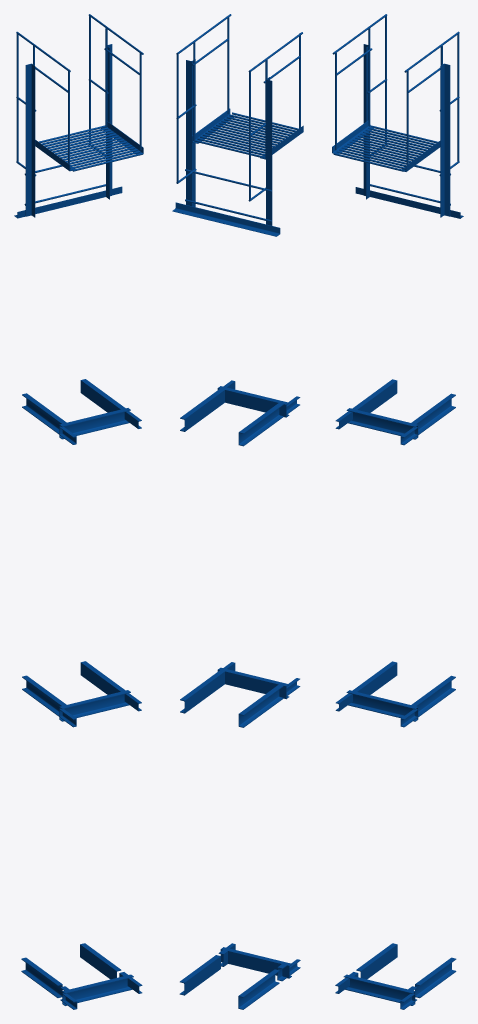
File: GCC-AAV-13220-30.nwd(29).fbx
The picture shows the model from 3 angles, left to right: view 1: azimuth 30°, elevation 25°; view 2: azimuth 150°, elevation 25°; view 3: azimuth 330°, elevation 25°; orthographic projection.
Parts seen in each view (by area): view 1: GENSEC 7 of SBFRAMEWORK /13220-ST-001/CS/KM2/B/+13.000, GENSEC 17 of SBFRAMEWORK /13220-ST-001/CS/KM2/B/+3.500, GENSEC 13 of SBFRAMEWORK /13220-ST-001/CS/KM2/B/+7.000, GENSEC 13 of SBFRAMEWORK /13220-ST-001/CS/KM2/B/+11.000, GENSEC 8 of SBFRAMEWORK /13220-ST-001/CS/KM2/B/+13.000, GENSEC 18 of SBFRAMEWORK /13220-ST-001/CS/KM2/B/+3.500, GENSEC 15 of SBFRAMEWORK /13220-ST-001/CS/KM2/B/+7.000, GENSEC 15 of SBFRAMEWORK /13220-ST-001/CS/KM2/B/+11.000, GENSEC 14 of SBFRAMEWORK /13220-ST-001/CS/KM2/B/+7.000, GENSEC 9 of SBFRAMEWORK /13220-ST-001/CS/KM2/B/+13.000, GENSEC 14 of SBFRAMEWORK /13220-ST-001/CS/KM2/B/+11.000, GENSEC 21 of SBFRAMEWORK /13220-ST-001/CS/KM2/B/+3.500 (+2 smaller); view 2: GENSEC 8 of SBFRAMEWORK /13220-ST-001/CS/KM2/B/+13.000, GENSEC 9 of SBFRAMEWORK /13220-ST-001/CS/KM2/B/+13.000, GENSEC 7 of SBFRAMEWORK /13220-ST-001/CS/KM2/B/+13.000, GENSEC 17 of SBFRAMEWORK /13220-ST-001/CS/KM2/B/+3.500, GENSEC 13 of SBFRAMEWORK /13220-ST-001/CS/KM2/B/+7.000, GENSEC 13 of SBFRAMEWORK /13220-ST-001/CS/KM2/B/+11.000, GENSEC 15 of SBFRAMEWORK /13220-ST-001/CS/KM2/B/+7.000, GENSEC 15 of SBFRAMEWORK /13220-ST-001/CS/KM2/B/+11.000, GENSEC 14 of SBFRAMEWORK /13220-ST-001/CS/KM2/B/+7.000, GENSEC 14 of SBFRAMEWORK /13220-ST-001/CS/KM2/B/+11.000, GENSEC 18 of SBFRAMEWORK /13220-ST-001/CS/KM2/B/+3.500, GENSEC 21 of SBFRAMEWORK /13220-ST-001/CS/KM2/B/+3.500 (+2 smaller); view 3: GENSEC 8 of SBFRAMEWORK /13220-ST-001/CS/KM2/B/+13.000, GENSEC 13 of SBFRAMEWORK /13220-ST-001/CS/KM2/B/+11.000, GENSEC 13 of SBFRAMEWORK /13220-ST-001/CS/KM2/B/+7.000, GENSEC 17 of SBFRAMEWORK /13220-ST-001/CS/KM2/B/+3.500, GENSEC 7 of SBFRAMEWORK /13220-ST-001/CS/KM2/B/+13.000, GENSEC 21 of SBFRAMEWORK /13220-ST-001/CS/KM2/B/+3.500, GENSEC 14 of SBFRAMEWORK /13220-ST-001/CS/KM2/B/+7.000, GENSEC 14 of SBFRAMEWORK /13220-ST-001/CS/KM2/B/+11.000, GENSEC 18 of SBFRAMEWORK /13220-ST-001/CS/KM2/B/+3.500, GENSEC 15 of SBFRAMEWORK /13220-ST-001/CS/KM2/B/+11.000, GENSEC 9 of SBFRAMEWORK /13220-ST-001/CS/KM2/B/+13.000, GENSEC 15 of SBFRAMEWORK /13220-ST-001/CS/KM2/B/+7.000 (+2 smaller).
Boxes of the visible parts, box(x1,y1,x2,y2) form: GENSEC 7 of SBFRAMEWORK /13220-ST-001/CS/KM2/B/+13.000: box(25, 63, 35, 217); GENSEC 17 of SBFRAMEWORK /13220-ST-001/CS/KM2/B/+3.500: box(62, 974, 133, 1005); GENSEC 13 of SBFRAMEWORK /13220-ST-001/CS/KM2/B/+7.000: box(59, 690, 130, 721); GENSEC 13 of SBFRAMEWORK /13220-ST-001/CS/KM2/B/+11.000: box(59, 408, 130, 439); GENSEC 8 of SBFRAMEWORK /13220-ST-001/CS/KM2/B/+13.000: box(106, 44, 112, 199); GENSEC 18 of SBFRAMEWORK /13220-ST-001/CS/KM2/B/+3.500: box(21, 957, 62, 997); GENSEC 15 of SBFRAMEWORK /13220-ST-001/CS/KM2/B/+7.000: box(22, 675, 66, 716); GENSEC 15 of SBFRAMEWORK /13220-ST-001/CS/KM2/B/+11.000: box(22, 393, 66, 434); GENSEC 14 of SBFRAMEWORK /13220-ST-001/CS/KM2/B/+7.000: box(80, 661, 125, 694); GENSEC 9 of SBFRAMEWORK /13220-ST-001/CS/KM2/B/+13.000: box(14, 186, 122, 218); GENSEC 14 of SBFRAMEWORK /13220-ST-001/CS/KM2/B/+11.000: box(80, 379, 125, 412); GENSEC 21 of SBFRAMEWORK /13220-ST-001/CS/KM2/B/+3.500: box(80, 943, 121, 979); GENSEC 8 of SBFRAMEWORK /13220-ST-001/CS/KM2/B/+13.000: box(186, 59, 195, 206); GENSEC 9 of SBFRAMEWORK /13220-ST-001/CS/KM2/B/+13.000: box(172, 202, 280, 236); GENSEC 7 of SBFRAMEWORK /13220-ST-001/CS/KM2/B/+13.000: box(266, 77, 272, 225); GENSEC 17 of SBFRAMEWORK /13220-ST-001/CS/KM2/B/+3.500: box(220, 947, 291, 978); GENSEC 13 of SBFRAMEWORK /13220-ST-001/CS/KM2/B/+7.000: box(217, 667, 289, 699); GENSEC 13 of SBFRAMEWORK /13220-ST-001/CS/KM2/B/+11.000: box(217, 386, 289, 417); GENSEC 15 of SBFRAMEWORK /13220-ST-001/CS/KM2/B/+7.000: box(238, 684, 283, 727); GENSEC 15 of SBFRAMEWORK /13220-ST-001/CS/KM2/B/+11.000: box(238, 403, 283, 446); GENSEC 14 of SBFRAMEWORK /13220-ST-001/CS/KM2/B/+7.000: box(180, 670, 224, 713); GENSEC 14 of SBFRAMEWORK /13220-ST-001/CS/KM2/B/+11.000: box(180, 388, 224, 431); GENSEC 18 of SBFRAMEWORK /13220-ST-001/CS/KM2/B/+3.500: box(238, 969, 279, 1009); GENSEC 21 of SBFRAMEWORK /13220-ST-001/CS/KM2/B/+3.500: box(179, 955, 220, 995); GENSEC 8 of SBFRAMEWORK /13220-ST-001/CS/KM2/B/+13.000: box(440, 63, 450, 217); GENSEC 13 of SBFRAMEWORK /13220-ST-001/CS/KM2/B/+11.000: box(346, 408, 418, 439); GENSEC 13 of SBFRAMEWORK /13220-ST-001/CS/KM2/B/+7.000: box(346, 690, 418, 721); GENSEC 17 of SBFRAMEWORK /13220-ST-001/CS/KM2/B/+3.500: box(343, 974, 415, 1005); GENSEC 7 of SBFRAMEWORK /13220-ST-001/CS/KM2/B/+13.000: box(363, 44, 369, 199); GENSEC 21 of SBFRAMEWORK /13220-ST-001/CS/KM2/B/+3.500: box(415, 957, 456, 998); GENSEC 14 of SBFRAMEWORK /13220-ST-001/CS/KM2/B/+7.000: box(411, 675, 455, 716); GENSEC 14 of SBFRAMEWORK /13220-ST-001/CS/KM2/B/+11.000: box(411, 393, 455, 434); GENSEC 18 of SBFRAMEWORK /13220-ST-001/CS/KM2/B/+3.500: box(356, 943, 397, 979); GENSEC 15 of SBFRAMEWORK /13220-ST-001/CS/KM2/B/+11.000: box(352, 379, 397, 412); GENSEC 9 of SBFRAMEWORK /13220-ST-001/CS/KM2/B/+13.000: box(355, 187, 463, 218); GENSEC 15 of SBFRAMEWORK /13220-ST-001/CS/KM2/B/+7.000: box(352, 661, 397, 694).
Bounding box in the file's own units: 53.45 × 460 × 49.28.
